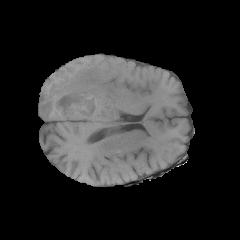glioma: (40, 66, 118, 120)
